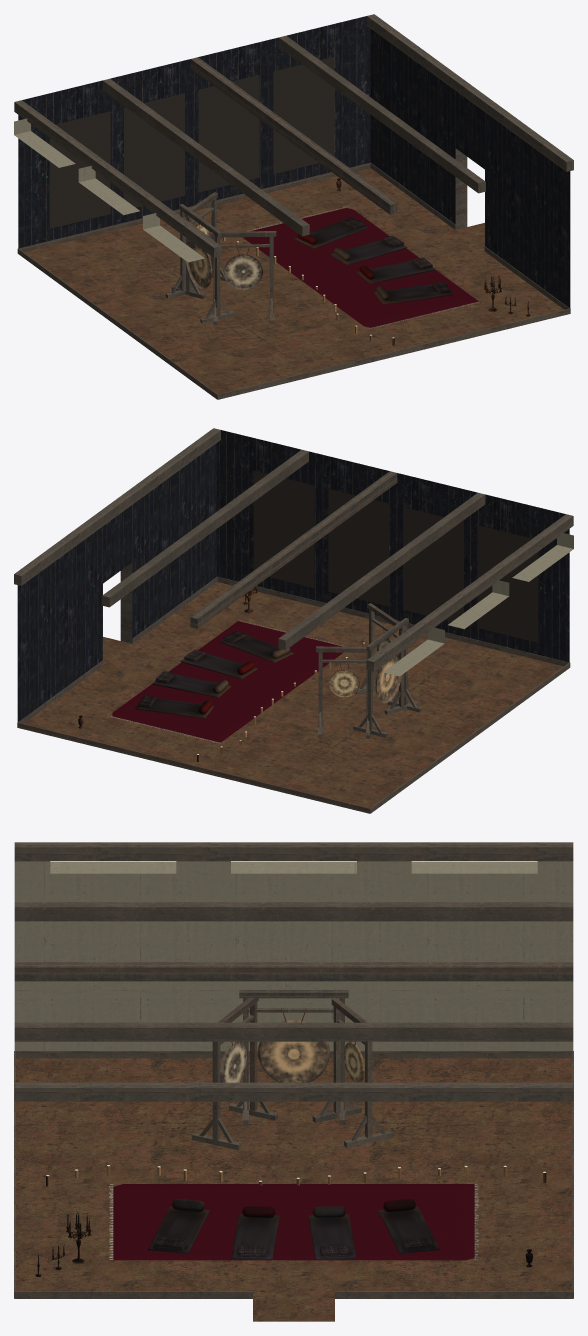
The model's file is room.gltf.
3 renders of one model, top to bottom at view 1: azimuth 30°, elevation 25°; view 2: azimuth 150°, elevation 25°; view 3: azimuth 270°, elevation 25°, orthographic. The views are drawn at different scales.
Visible parts, largest first — view 1: shell_black_wood, shell_concrete_f, shell_beam, shell_felt, shell_rugblue, prop_herring, shell_concrete_w, prop_gong_b, prop_gong_a, prop_wool; view 2: shell_black_wood, shell_concrete_f, shell_beam, shell_felt, shell_rugblue, prop_herring, shell_concrete_w, prop_gong_a, prop_gong_c, prop_wool; view 3: shell_concrete_f, shell_concrete_w, shell_beam, shell_rugblue, prop_herring, prop_gong_a, prop_wool, prop_gong_b, prop_velvet, prop_gong_c.
Boxes of the visible parts, left/top/right/bottom form: shell_black_wood: left=18, top=16, right=570, bottom=308; shell_concrete_f: left=24, top=168, right=563, bottom=394; shell_beam: left=14, top=14, right=573, bottom=399; shell_felt: left=49, top=56, right=334, bottom=228; shell_rugblue: left=243, top=208, right=478, bottom=328; prop_herring: left=294, top=221, right=452, bottom=304; shell_concrete_w: left=14, top=118, right=204, bottom=262; prop_gong_b: left=224, top=254, right=262, bottom=289; prop_gong_a: left=186, top=240, right=212, bottom=289; prop_wool: left=341, top=217, right=450, bottom=293; shell_black_wood: left=17, top=430, right=569, bottom=722; shell_concrete_f: left=24, top=582, right=563, bottom=808; shell_beam: left=14, top=428, right=573, bottom=813; shell_felt: left=253, top=470, right=538, bottom=642; shell_rugblue: left=112, top=621, right=343, bottom=742; prop_herring: left=135, top=634, right=293, bottom=718; shell_concrete_w: left=383, top=532, right=573, bottom=676; prop_gong_a: left=375, top=654, right=401, bottom=703; prop_gong_c: left=329, top=669, right=359, bottom=697; prop_wool: left=138, top=630, right=246, bottom=707; shell_concrete_f: left=15, top=1058, right=572, bottom=1321; shell_concrete_w: left=14, top=861, right=573, bottom=1050; shell_beam: left=14, top=842, right=573, bottom=1298; shell_rugblue: left=113, top=1184, right=474, bottom=1260; prop_herring: left=148, top=1199, right=439, bottom=1259; prop_gong_a: left=258, top=1020, right=329, bottom=1082; prop_wool: left=154, top=1237, right=433, bottom=1257; prop_gong_b: left=220, top=1041, right=246, bottom=1082; prop_velvet: left=242, top=1199, right=415, bottom=1217; prop_gong_c: left=343, top=1041, right=364, bottom=1082.
Bounding box in the file's own units: 11.9 × 4.3 × 10.23.
21 materials, 21 textured.
